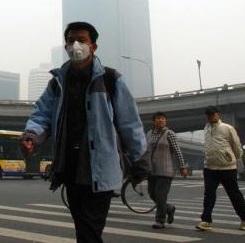person: (20, 20, 145, 242), (195, 105, 245, 233), (138, 109, 184, 232)
